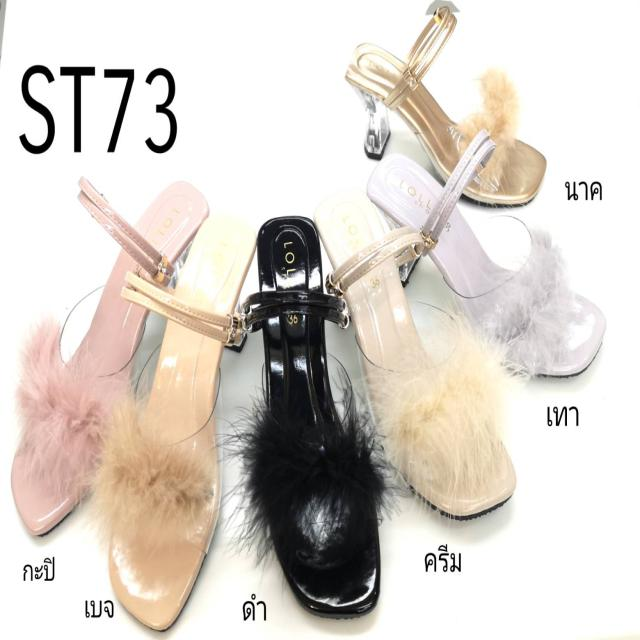bej: (113, 218, 257, 632)
black: (256, 211, 382, 615)
cream: (314, 194, 520, 520)
grey: (366, 150, 604, 391)
kapi: (12, 182, 206, 534)
nak: (352, 41, 548, 212)
